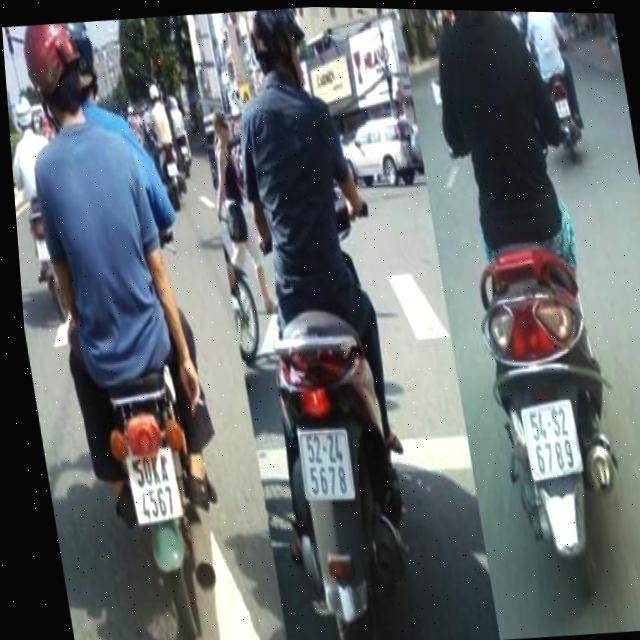motorcycle: (459, 211, 639, 589), (252, 305, 426, 640), (96, 374, 209, 597), (539, 71, 587, 166)
plate: (507, 392, 588, 488), (119, 435, 191, 534), (290, 416, 361, 512), (550, 93, 578, 135)
